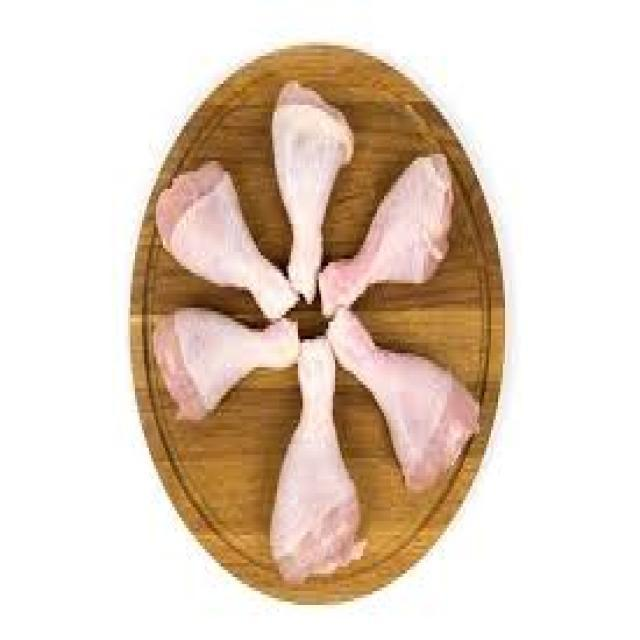leg: (310, 154, 460, 326), (330, 314, 482, 478), (148, 164, 296, 314), (270, 337, 358, 558), (264, 74, 350, 298), (150, 301, 296, 414)
